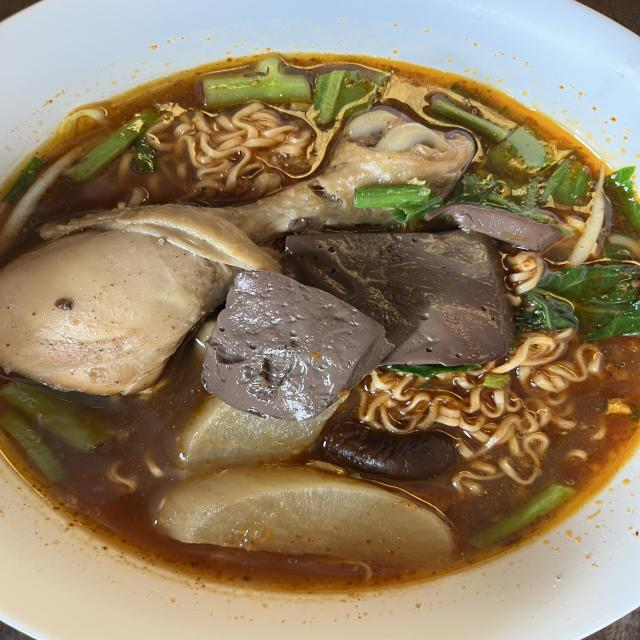boiled_chicken_blood_jelly: (292, 222, 516, 366), (199, 267, 382, 415)
chicken_drumstick: (0, 101, 463, 384)
daikon_radish: (155, 462, 460, 563), (182, 408, 316, 466)
noodle: (0, 46, 640, 603)
